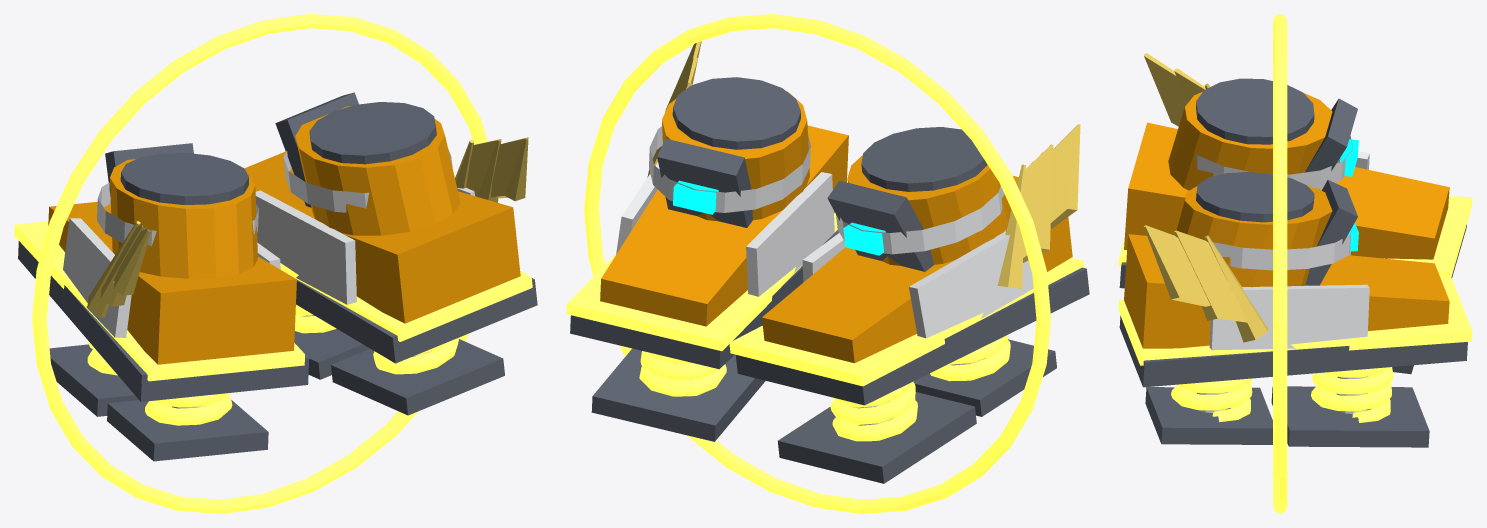
The model's file is shoes.glb.
3 views of the same model, side by side, from view 1: azimuth 30°, elevation 25°; view 2: azimuth 150°, elevation 25°; view 3: azimuth 270°, elevation 25° (orthographic). The views are drawn at different scales.
Visible parts, largest first — view 1: FloatingAuraRing, Upper.001, Upper, Ankle.001, Ankle, Midsole, HeelPad.001, Panel_-1.001, Lining.001, HeelPad, Midsole.001, Lining (+14 smaller); view 2: FloatingAuraRing, Upper.001, Upper, ForePad, Midsole, Lining.001, ForePad.001, Panel_-1.0, Lining, SpeedWing, GlowRim, Panel_-1.001 (+17 smaller); view 3: Upper, Upper.001, Midsole.001, FloatingAuraRing, Panel_1.001, SpeedWing.001, ForePad.001, Ankle, Ankle.001, Lining, GlowRim.001, HeelPad.001 (+10 smaller).
Part boxes in pixels (x1,y1,x2,y2): FloatingAuraRing: (32, 14, 498, 513); Upper.001: (244, 151, 520, 323); Upper: (48, 201, 296, 364); Ankle.001: (295, 106, 460, 235); Ankle: (110, 159, 257, 278); Midsole: (18, 241, 309, 401); HeelPad.001: (331, 339, 504, 415); Panel_-1.001: (255, 190, 356, 304); Lining.001: (309, 102, 436, 164); HeelPad: (107, 400, 268, 461); Midsole.001: (296, 278, 537, 363); Lining: (120, 153, 248, 204); FloatingAuraRing: (584, 14, 1051, 513); Upper.001: (600, 125, 848, 326); Upper: (762, 176, 1072, 363); ForePad: (777, 392, 976, 483); Midsole: (735, 267, 1089, 405); Lining.001: (672, 77, 800, 149); ForePad.001: (591, 348, 765, 441); Panel_-1.0: (909, 231, 1033, 338); Lining: (861, 127, 987, 191); SpeedWing: (997, 124, 1080, 288); GlowRim: (729, 258, 1084, 386); Panel_-1.001: (746, 172, 834, 296); Upper: (1124, 122, 1449, 259); Upper.001: (1124, 234, 1449, 348); Midsole.001: (1119, 315, 1467, 387); FloatingAuraRing: (1273, 14, 1287, 513); Panel_1.001: (1209, 284, 1369, 350); SpeedWing.001: (1144, 225, 1267, 342); ForePad.001: (1271, 386, 1429, 447); Ankle: (1168, 91, 1332, 190); Ankle.001: (1175, 185, 1332, 287); Lining: (1196, 78, 1314, 144); GlowRim.001: (1118, 275, 1472, 365); HeelPad.001: (1145, 387, 1272, 444).
Size of the model in its own units: 1.13 by 1.13 by 0.8009.
